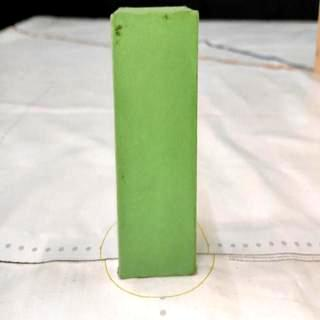greenbox: (110, 6, 200, 280)
